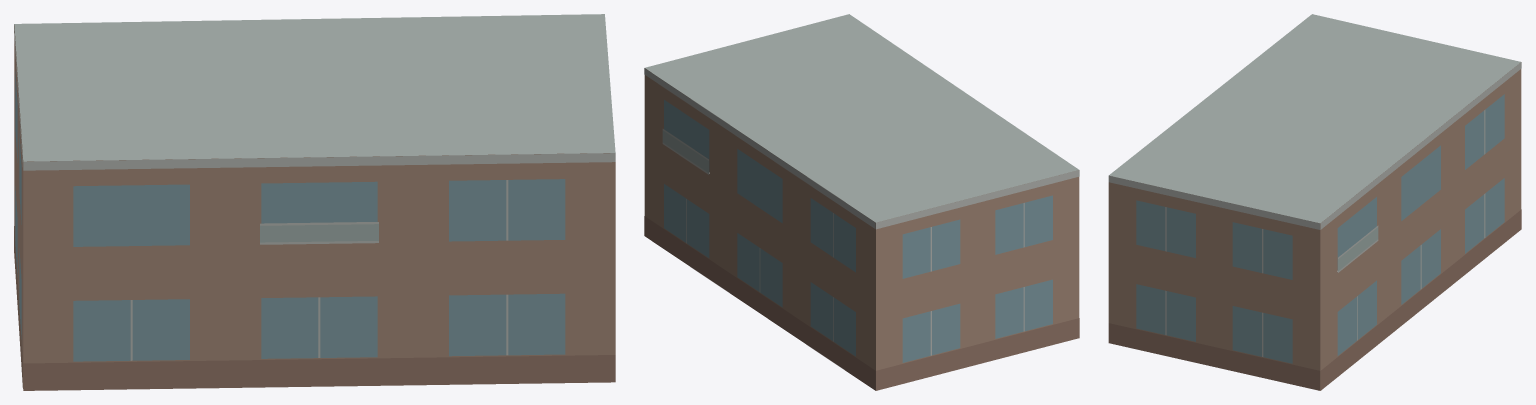
Rendered from survey-upis-32710852.glb.
3 views of the same model, side by side, from view 1: azimuth 30°, elevation 25°; view 2: azimuth 150°, elevation 25°; view 3: azimuth 270°, elevation 25° (orthographic). The views are drawn at different scales.
Visible parts, largest first — view 1: survey-upis-32710852.tmp; view 2: survey-upis-32710852.tmp; view 3: survey-upis-32710852.tmp.
Boxes of the visible parts, x1,y1,x2,y2 form: survey-upis-32710852.tmp: (14,14,615,390); survey-upis-32710852.tmp: (644,14,1079,390); survey-upis-32710852.tmp: (1108,14,1521,390).
Bounding box in the file's own units: 16.36 × 6.1 × 13.63.
